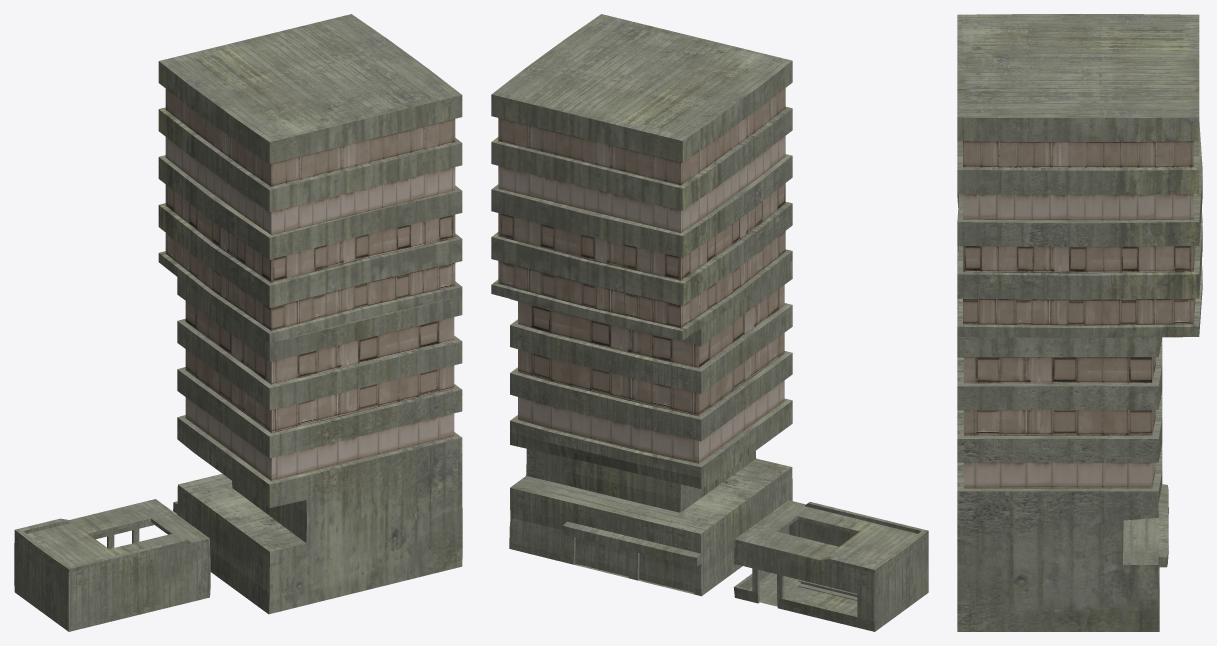
3 views of the same model, side by side, from view 1: azimuth 30°, elevation 25°; view 2: azimuth 150°, elevation 25°; view 3: azimuth 270°, elevation 25° (orthographic). The views are drawn at different scales.
Visible parts, largest first — view 1: SM_HK_02_00.003; view 2: SM_HK_02_00.003; view 3: SM_HK_02_00.003.
Boxes of the visible parts, bbox=[...] form: SM_HK_02_00.003: bbox=[14, 14, 462, 631]; SM_HK_02_00.003: bbox=[491, 14, 928, 631]; SM_HK_02_00.003: bbox=[957, 14, 1202, 631].
Size of the model in its own units: 3733 by 4617 by 1995.
